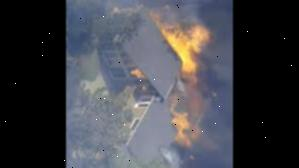fire: (164, 0, 220, 66), (166, 110, 208, 152)
